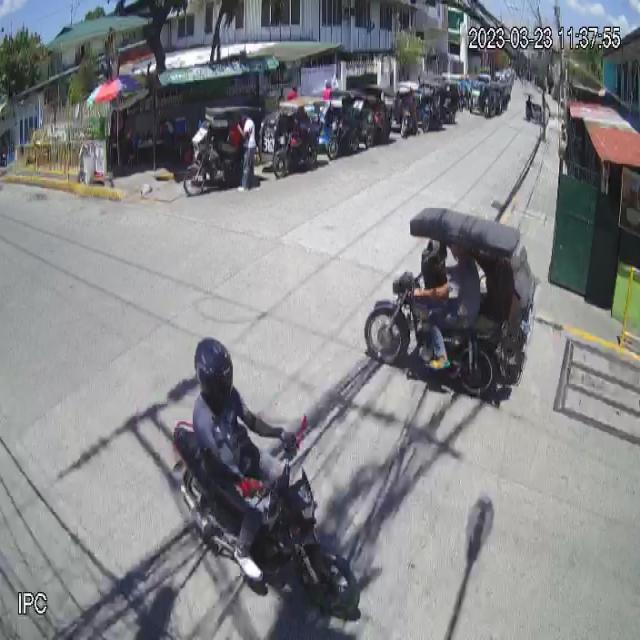Motorcycle: (170, 416, 356, 622)
Tricycle: (364, 206, 536, 400)
